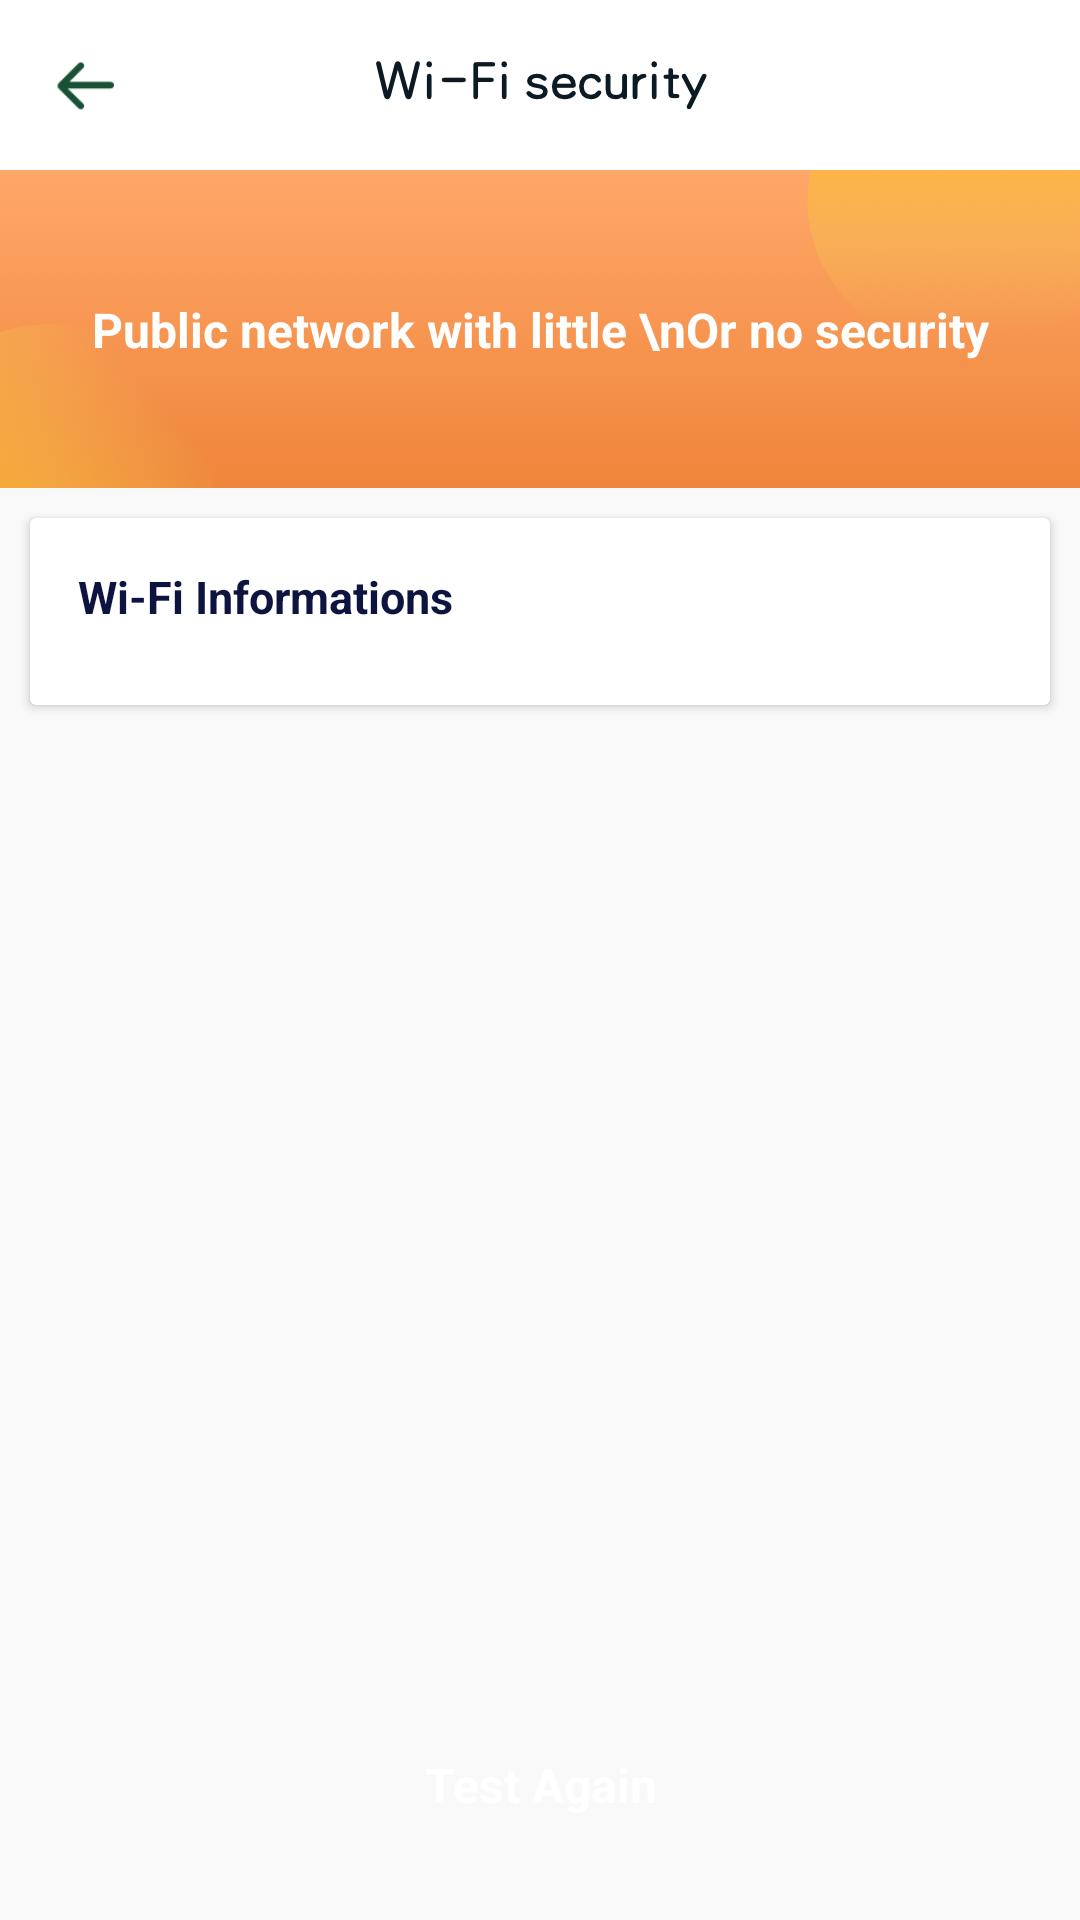

Icons on this 1080*1920 Android screen, each with the point to tap as (x=x, y=y):
back: (x=85, y=86)
